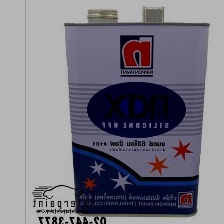cleaning_solution: (59, 5, 214, 220)
